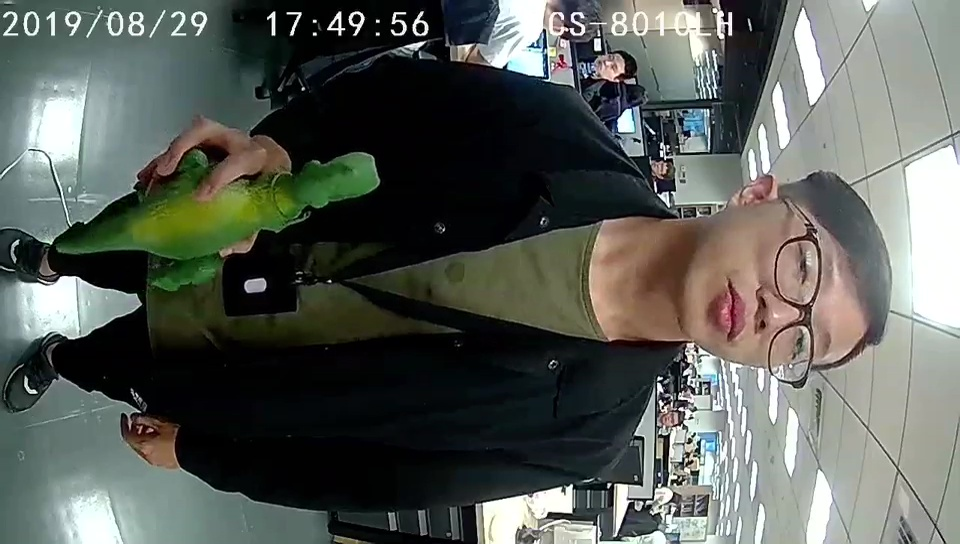rex: (117, 148, 381, 293)
